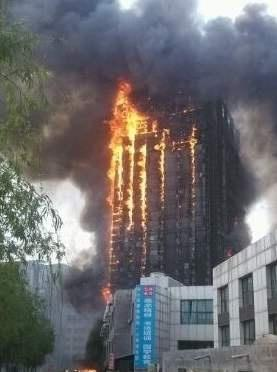fire: (94, 76, 204, 298)
